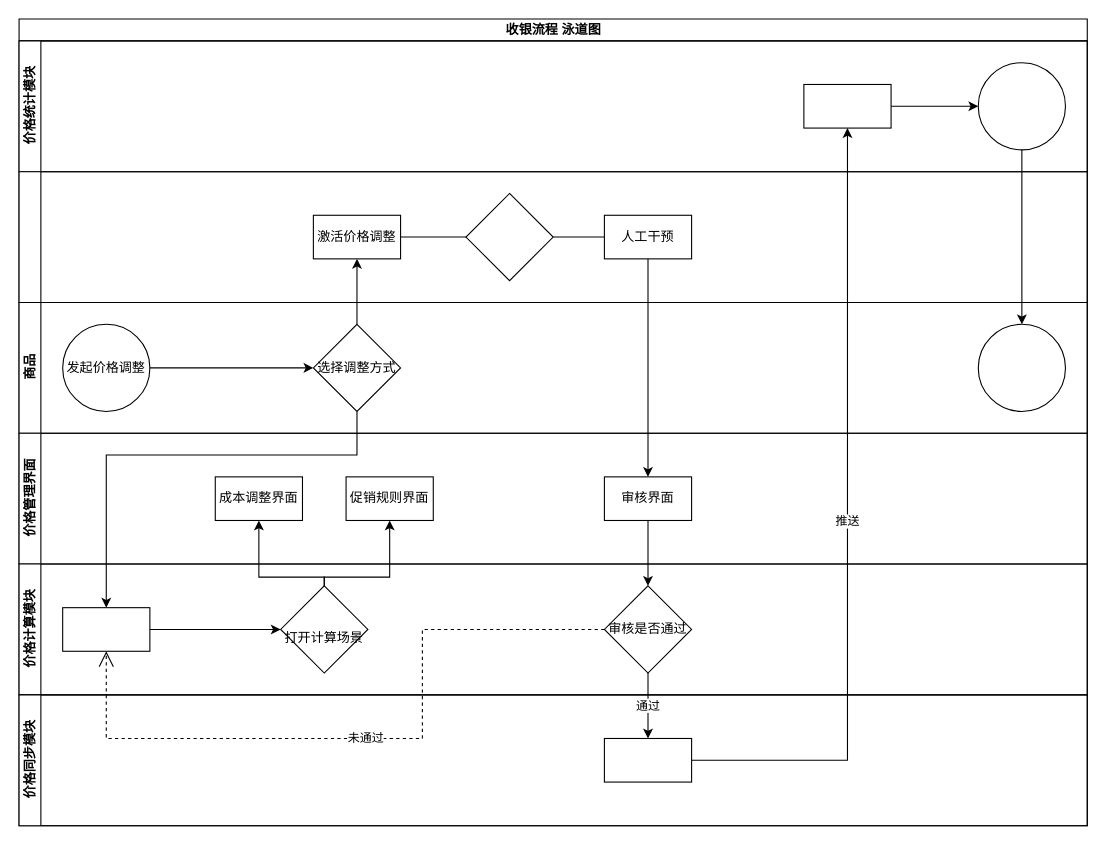
The diagram is 1106 pixels wide and 845 high, and some of its shapes have lost their labels. Each missing label, with the box of its shape:
同步到平台: (603, 737, 692, 782)
完成数据推送: (977, 62, 1065, 150)
完成调整: (977, 323, 1065, 411)
市场/财务人员: (18, 171, 1087, 302)
推送到价格统计模块: (803, 83, 891, 128)
是否异常: (465, 192, 553, 281)
计算价格: (62, 607, 150, 651)
